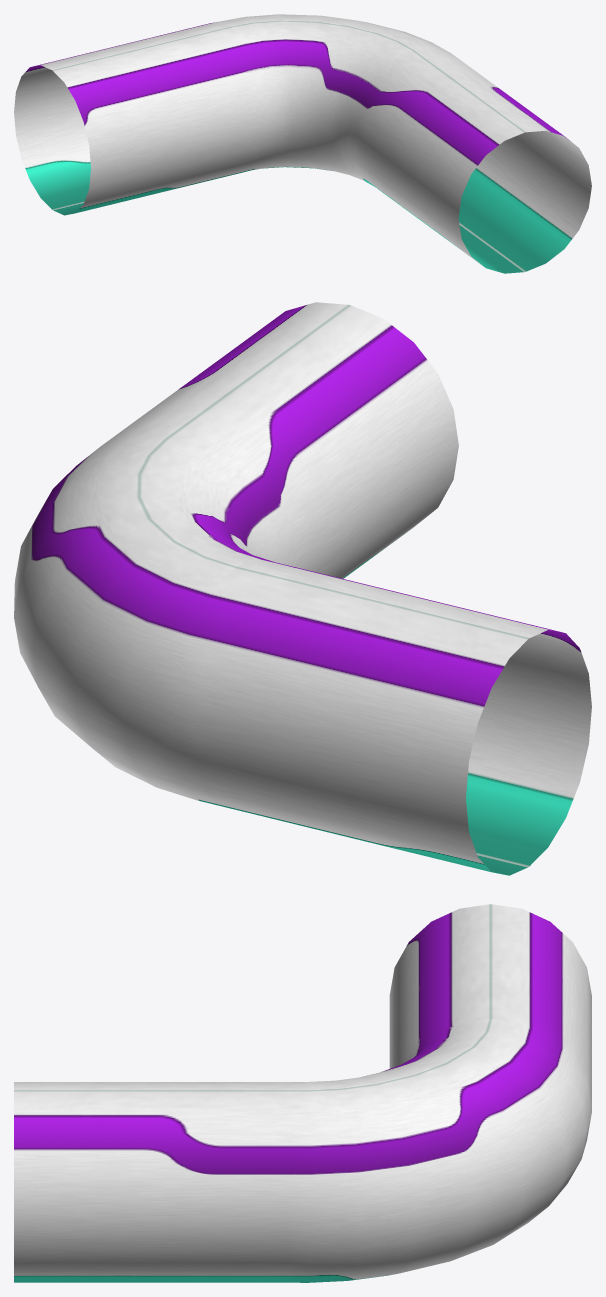
File: CorridorBent.fbx
3 views of the same model, one above another, from view 1: azimuth 30°, elevation 25°; view 2: azimuth 150°, elevation 25°; view 3: azimuth 270°, elevation 25° (orthographic). The views are drawn at different scales.
Parts seen in each view (by area): view 1: pCylinder11; view 2: pCylinder11; view 3: pCylinder11.
Boxes of the visible parts, bbox=[...] form: pCylinder11: bbox=[14, 14, 591, 273]; pCylinder11: bbox=[14, 302, 591, 875]; pCylinder11: bbox=[14, 904, 591, 1282].
Bounding box in the file's own units: 10.51 × 3.92 × 11.2.
